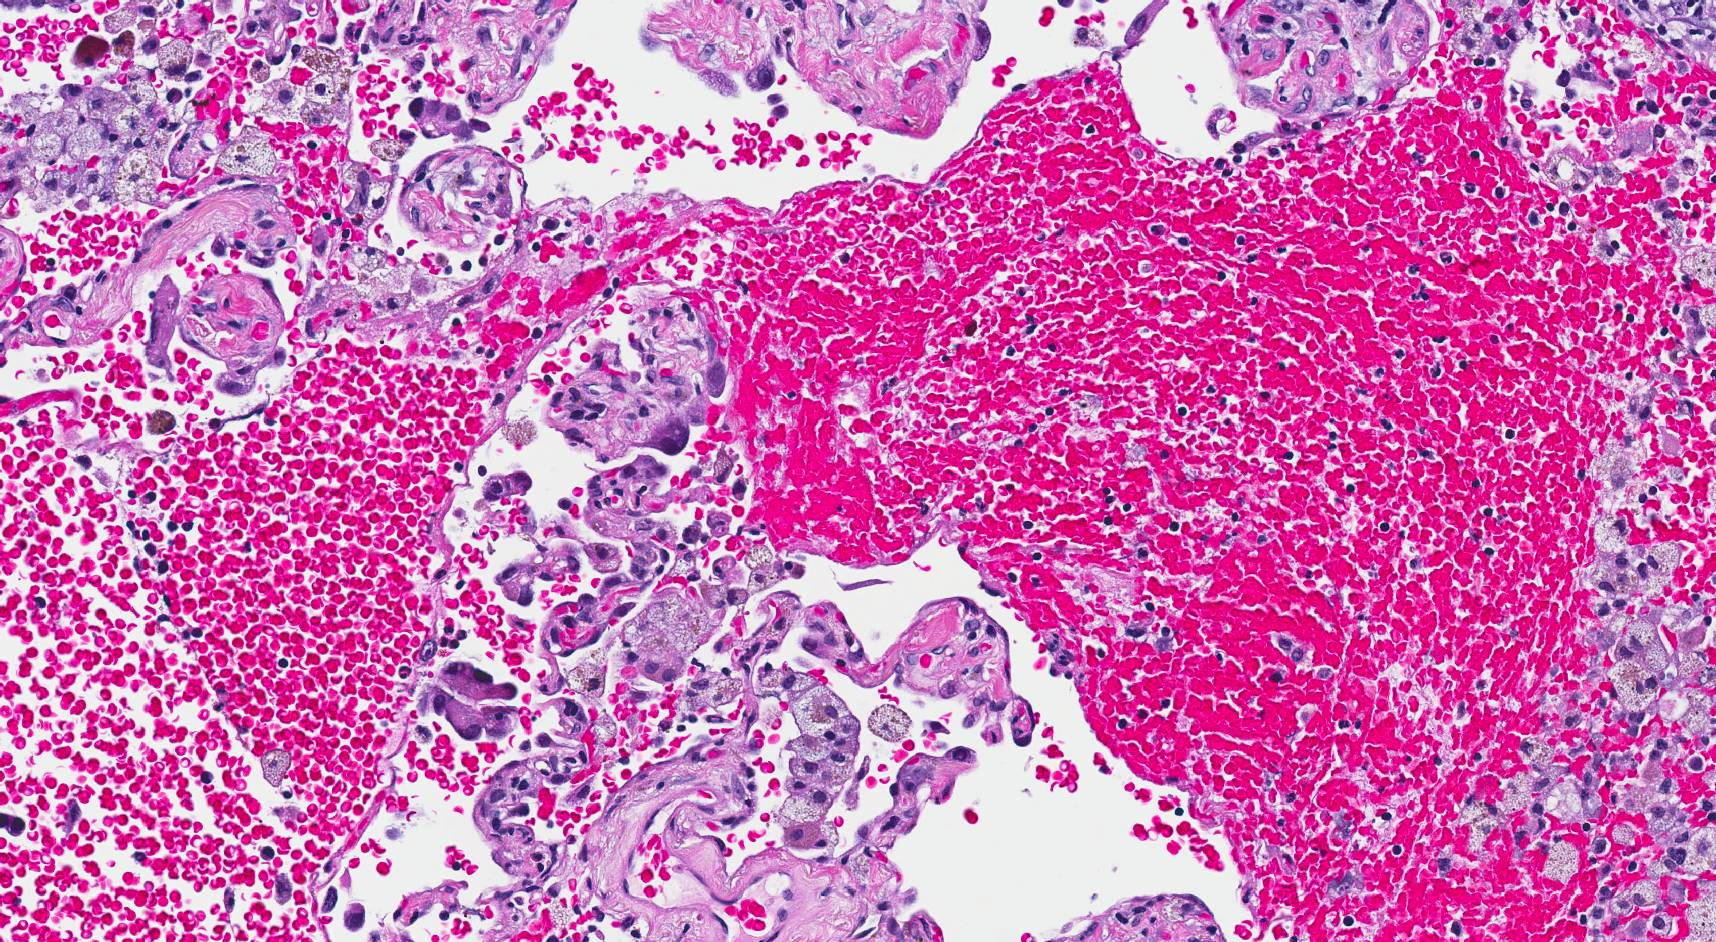stas: (425, 661, 519, 743), (496, 548, 584, 607), (409, 92, 497, 145), (477, 468, 535, 503)
